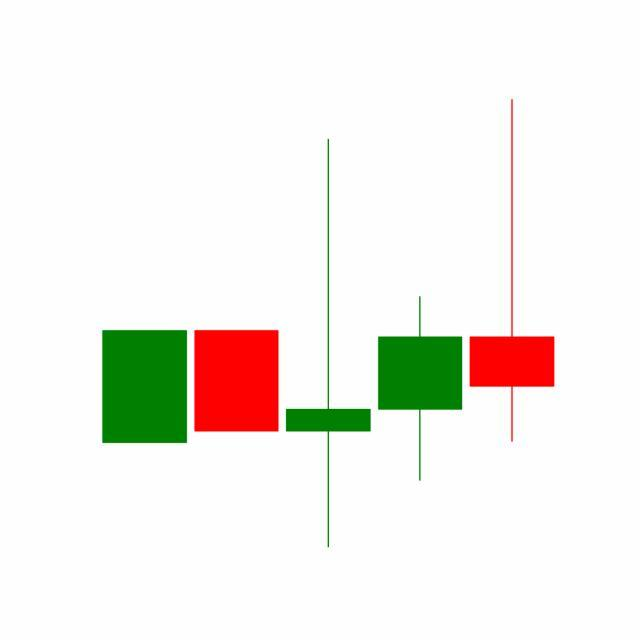Spinning Top: (466, 96, 559, 446)
